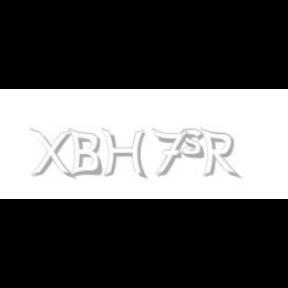7: (152, 128, 190, 178)
B: (68, 128, 102, 178)
H: (101, 128, 147, 180)
R: (200, 128, 238, 180)
X: (29, 128, 73, 180)
s: (181, 128, 209, 160)
